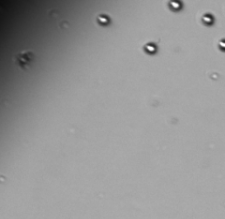Dead Cell: (18, 50, 34, 65)
Living Cell: (95, 13, 110, 26), (168, 1, 183, 12), (145, 42, 157, 54), (201, 13, 214, 24)
